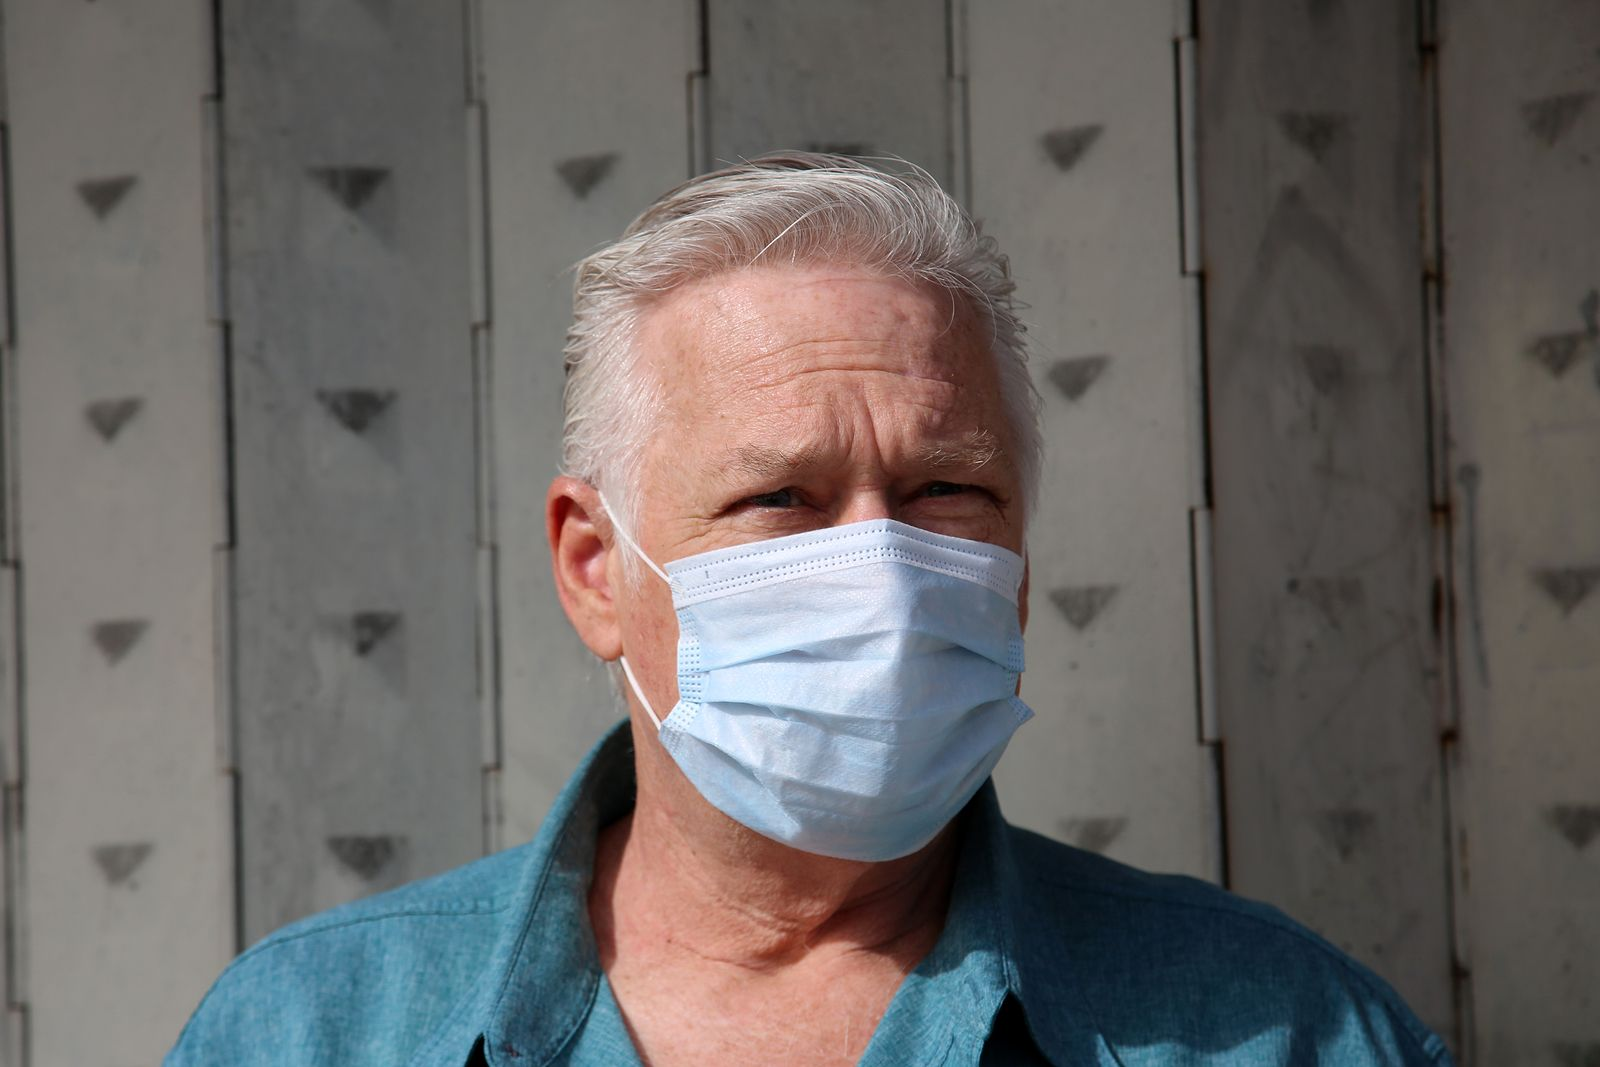with_mask: (534, 174, 1119, 882)
